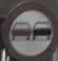No overtake: (3, 8, 53, 47)
